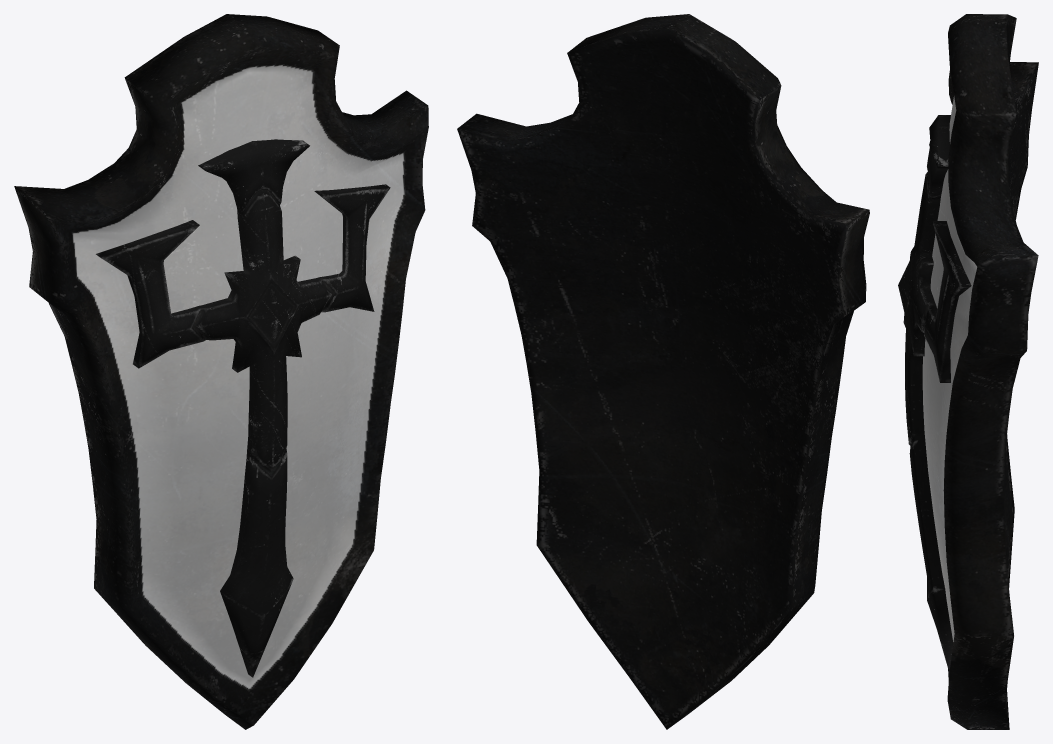
File: metal_shield.gltf
The picture shows the model from 3 angles, left to right: view 1: azimuth 30°, elevation 25°; view 2: azimuth 150°, elevation 25°; view 3: azimuth 270°, elevation 25°; orthographic projection.
Visible parts, largest first — view 1: lo.001_0; view 2: lo.001_0; view 3: lo.001_0.
Part boxes in pixels (box(x1,y1,x2,y2)): lo.001_0: box(14, 14, 428, 729); lo.001_0: box(457, 14, 869, 729); lo.001_0: box(898, 14, 1038, 729).
Size of the model in its own units: 1.51 by 2.56 by 0.4624.
1 material, 1 textured.
